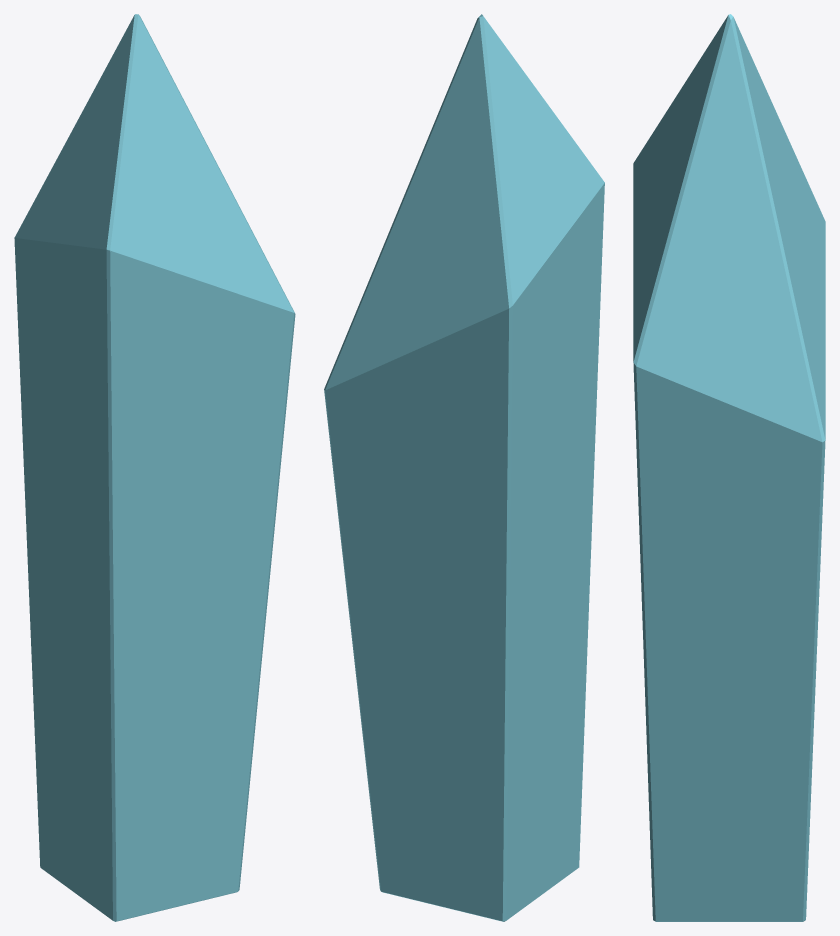
The model's file is Icespike_Medium.fbx.
The picture shows the model from 3 angles, left to right: view 1: azimuth 30°, elevation 25°; view 2: azimuth 150°, elevation 25°; view 3: azimuth 270°, elevation 25°; orthographic projection.
Parts seen in each view (by area): view 1: Ice spike medium; view 2: Ice spike medium; view 3: Ice spike medium.
Part boxes in pixels (x1,y1,x2,y2): Ice spike medium: (14,14,295,921); Ice spike medium: (324,14,604,921); Ice spike medium: (633,14,825,921).
Bounding box in the file's own units: 22.05 × 96.71 × 19.21.
